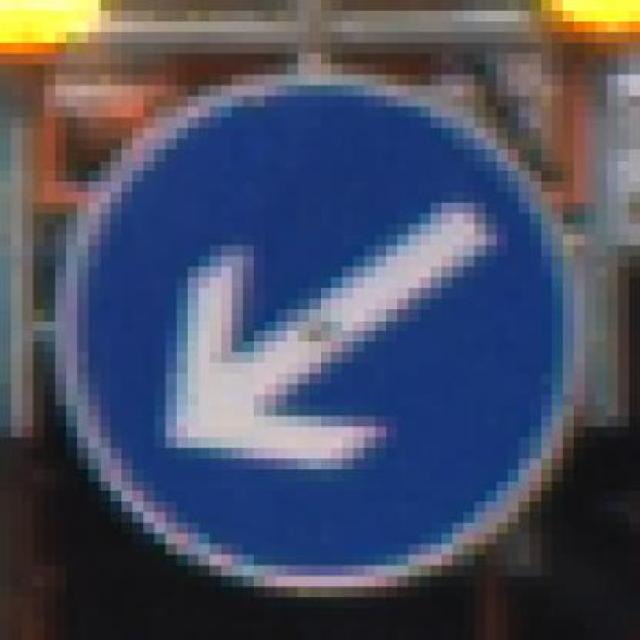Keep-Left: (44, 64, 596, 608)
